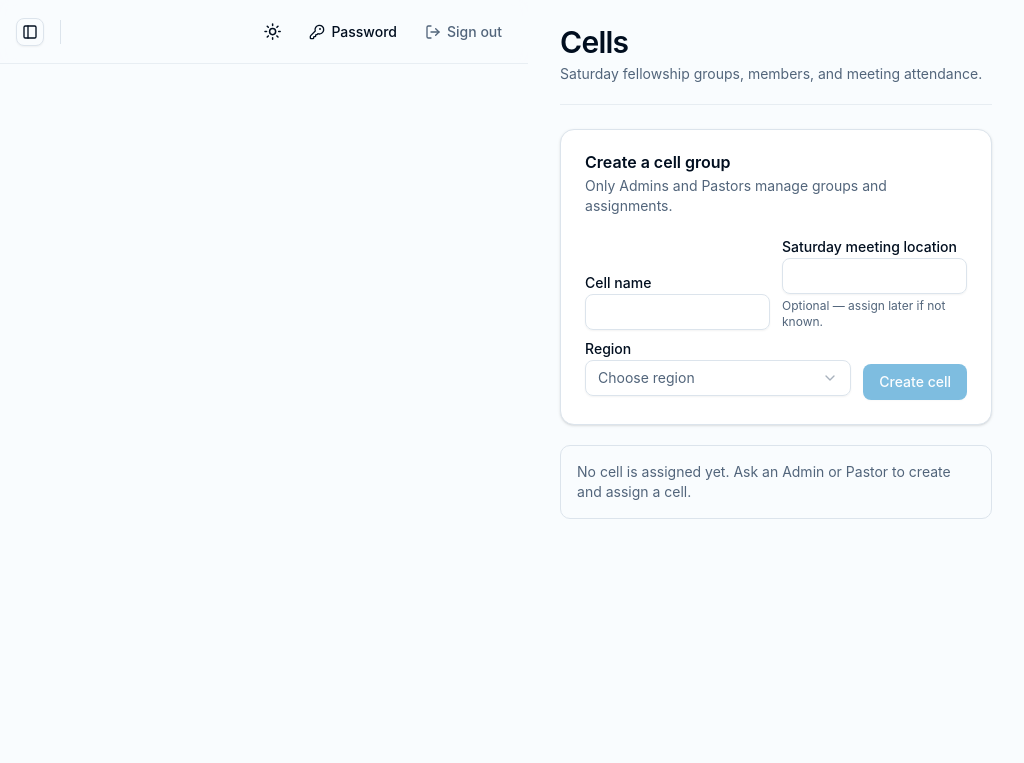
Scenario: CMAMS browser workflows › lets an Admin create a cell without a meeting place
Type "Across Region 9" into the field labelled "Cell name".
click(678, 312); type("Across Region 9")  # box [585,294,770,330]
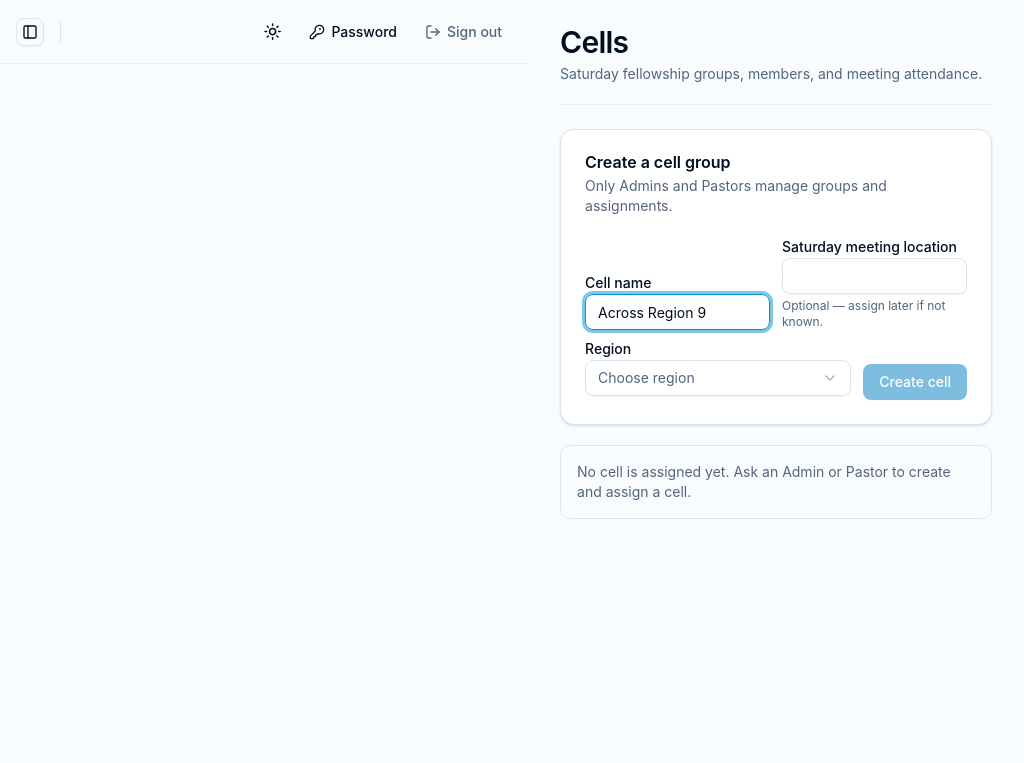
Click the dropdown labelled "Choose region".
click(646, 378)  # box [585,360,851,396]
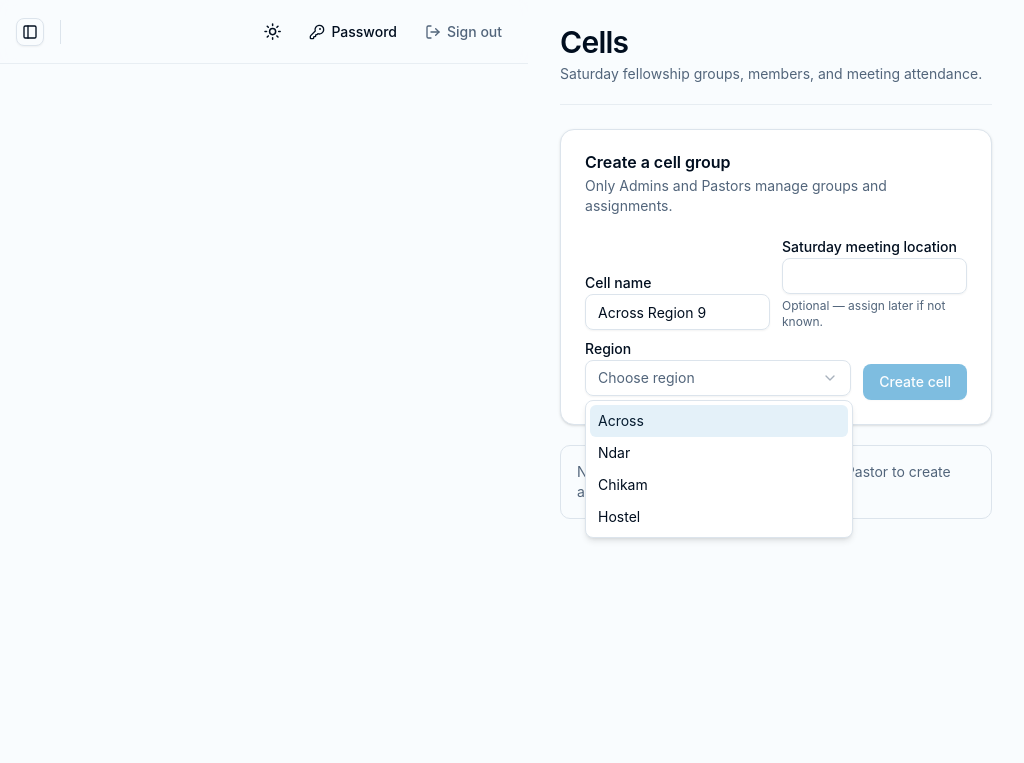
Click the option "Across".
click(719, 421)  # box [590,405,848,437]
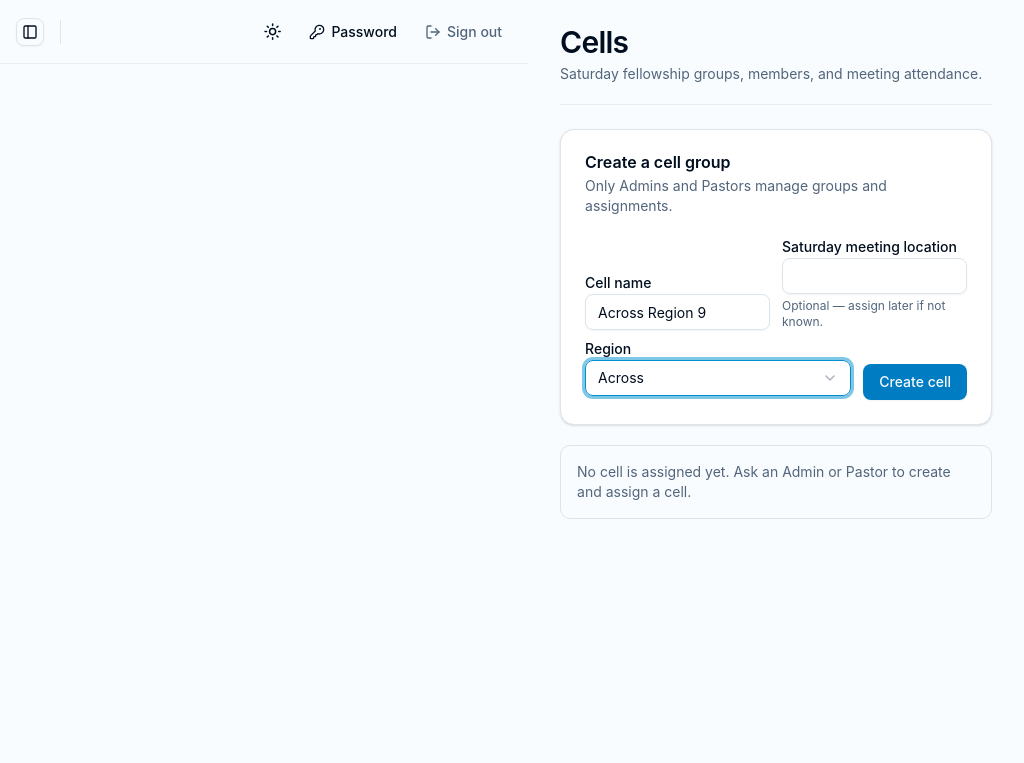
Click the button "Create cell".
click(915, 382)  # box [863,364,967,400]
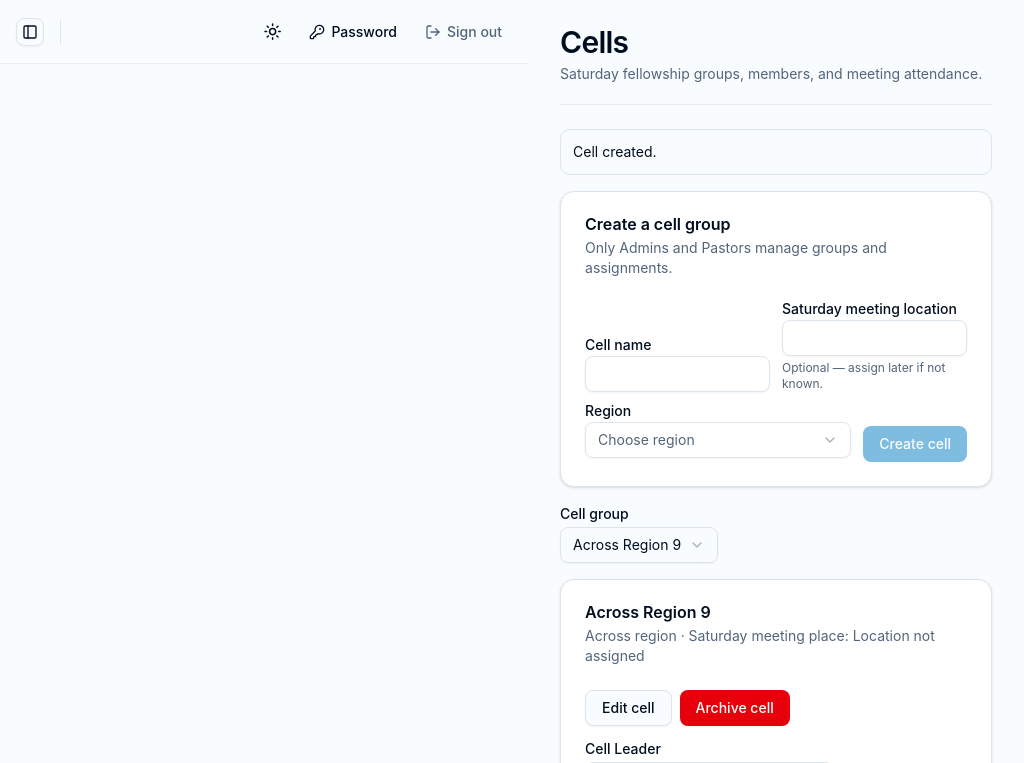
Expected: the text "Location not assigned" is shown, [585,627,935,664]
